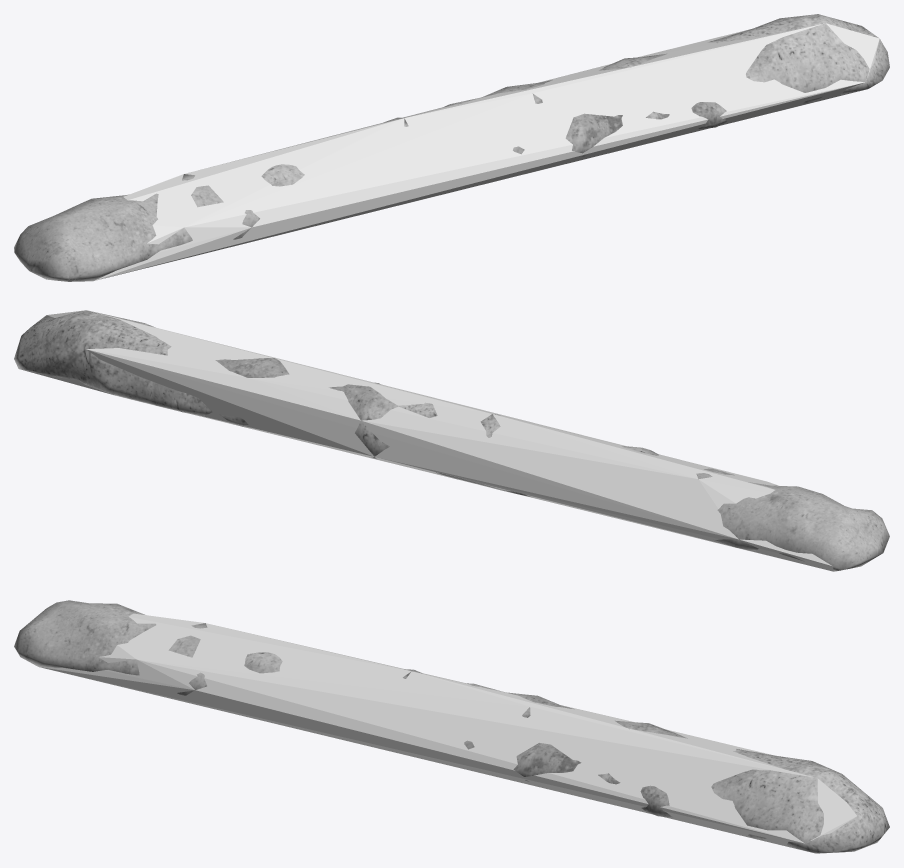
The model's file is SM_Snow_Pile_01a.fbx.
The picture shows the model from 3 angles, top to bottom: view 1: azimuth 30°, elevation 25°; view 2: azimuth 150°, elevation 25°; view 3: azimuth 330°, elevation 25°; orthographic projection.
Parts seen in each view (by area): view 1: SM_Snow_Pile_01a_ConvexHulls, SM_Snow_Pile_01a_LOD0; view 2: SM_Snow_Pile_01a_ConvexHulls, SM_Snow_Pile_01a_LOD0; view 3: SM_Snow_Pile_01a_ConvexHulls, SM_Snow_Pile_01a_LOD0.
Boxes of the visible parts, x1=… form: SM_Snow_Pile_01a_ConvexHulls: x1=69, y1=23, x2=879, y2=281; SM_Snow_Pile_01a_LOD0: x1=14, y1=14, x2=889, y2=281; SM_Snow_Pile_01a_ConvexHulls: x1=22, y1=310, x2=833, y2=571; SM_Snow_Pile_01a_LOD0: x1=14, y1=310, x2=889, y2=571; SM_Snow_Pile_01a_ConvexHulls: x1=20, y1=613, x2=856, y2=851; SM_Snow_Pile_01a_LOD0: x1=14, y1=600, x2=889, y2=853.
Size of the model in its own units: 387 by 45.54 by 25.11.
